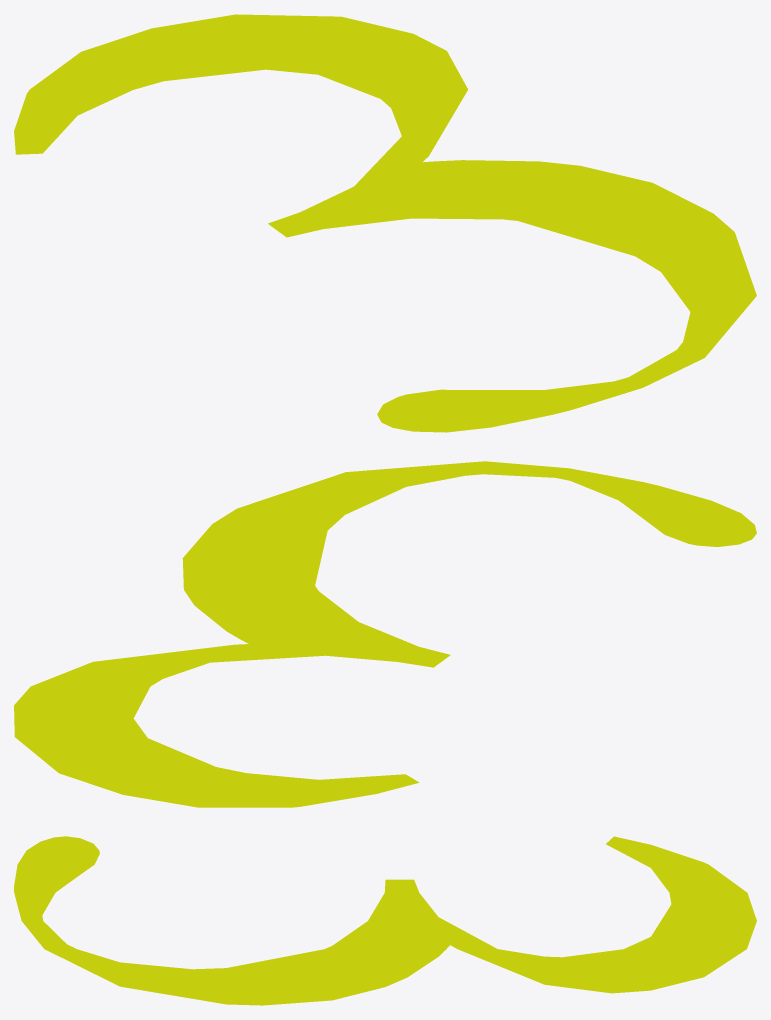
3 views of the same model, one above another, from view 1: azimuth 30°, elevation 25°; view 2: azimuth 150°, elevation 25°; view 3: azimuth 270°, elevation 25° (orthographic). The views are drawn at different scales.
Visible parts, largest first — view 1: Trim_Char_x_1_1; view 2: Trim_Char_x_1_1; view 3: Trim_Char_x_1_1.
Boxes of the visible parts, left/top/right/bottom form: Trim_Char_x_1_1: left=14, top=14, right=756, bottom=432; Trim_Char_x_1_1: left=14, top=461, right=756, bottom=807; Trim_Char_x_1_1: left=14, top=836, right=756, bottom=1005.
Bounding box in the file's own units: 14.01 × 1.55e-15 × 26.01.
